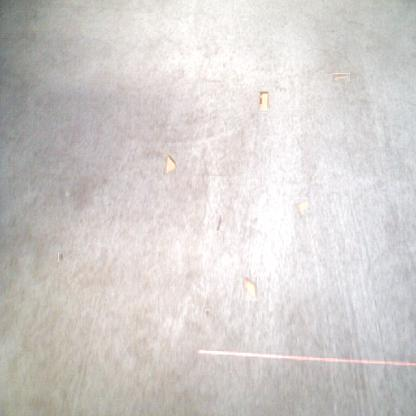dirty: (242, 277, 257, 301), (162, 153, 176, 175), (257, 91, 269, 111), (294, 199, 309, 214), (332, 73, 350, 82)
mark: (215, 214, 223, 231), (58, 252, 63, 262), (205, 309, 210, 318)
